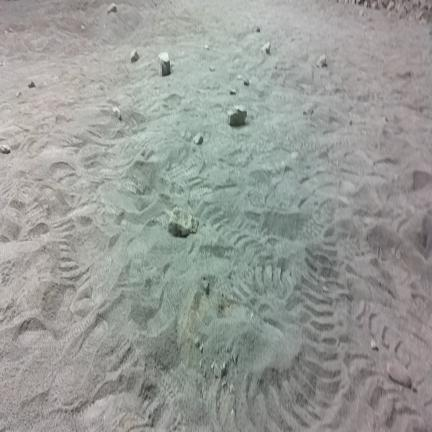Rock: (169, 207, 198, 237), (387, 362, 412, 388), (419, 214, 432, 259), (228, 106, 246, 126), (413, 171, 431, 191), (159, 52, 170, 76), (420, 0, 431, 22), (201, 277, 210, 296), (316, 54, 327, 68), (112, 106, 122, 120), (130, 49, 140, 63), (370, 338, 379, 351), (397, 71, 411, 79), (213, 364, 221, 378), (303, 103, 313, 114), (261, 42, 270, 54), (379, 0, 389, 9), (194, 134, 203, 144), (0, 145, 10, 154), (108, 3, 116, 14), (387, 0, 395, 11), (221, 362, 227, 376), (232, 353, 239, 364), (400, 9, 407, 19), (221, 380, 227, 390), (28, 81, 35, 88), (252, 26, 260, 32), (395, 250, 400, 259), (195, 337, 199, 348), (236, 74, 243, 80), (230, 384, 234, 393), (372, 2, 377, 9), (244, 79, 249, 86), (230, 89, 236, 94), (359, 9, 363, 16), (200, 344, 203, 353), (383, 117, 388, 122), (204, 45, 209, 50), (16, 92, 21, 97), (210, 66, 214, 71), (81, 25, 84, 30)
